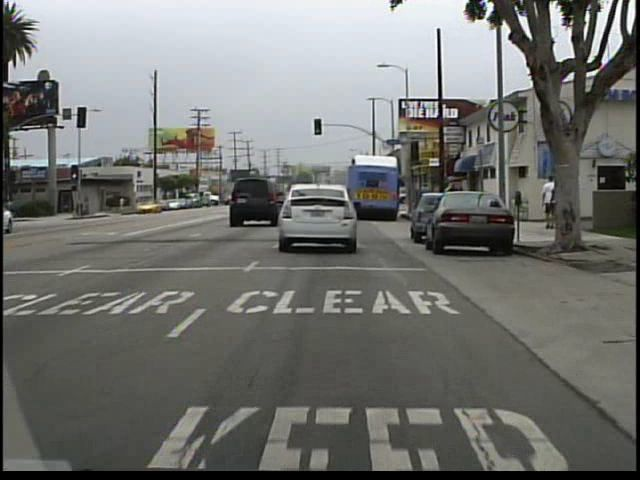person: (537, 173, 556, 234), (548, 177, 565, 233), (416, 180, 435, 220), (118, 195, 128, 212)
